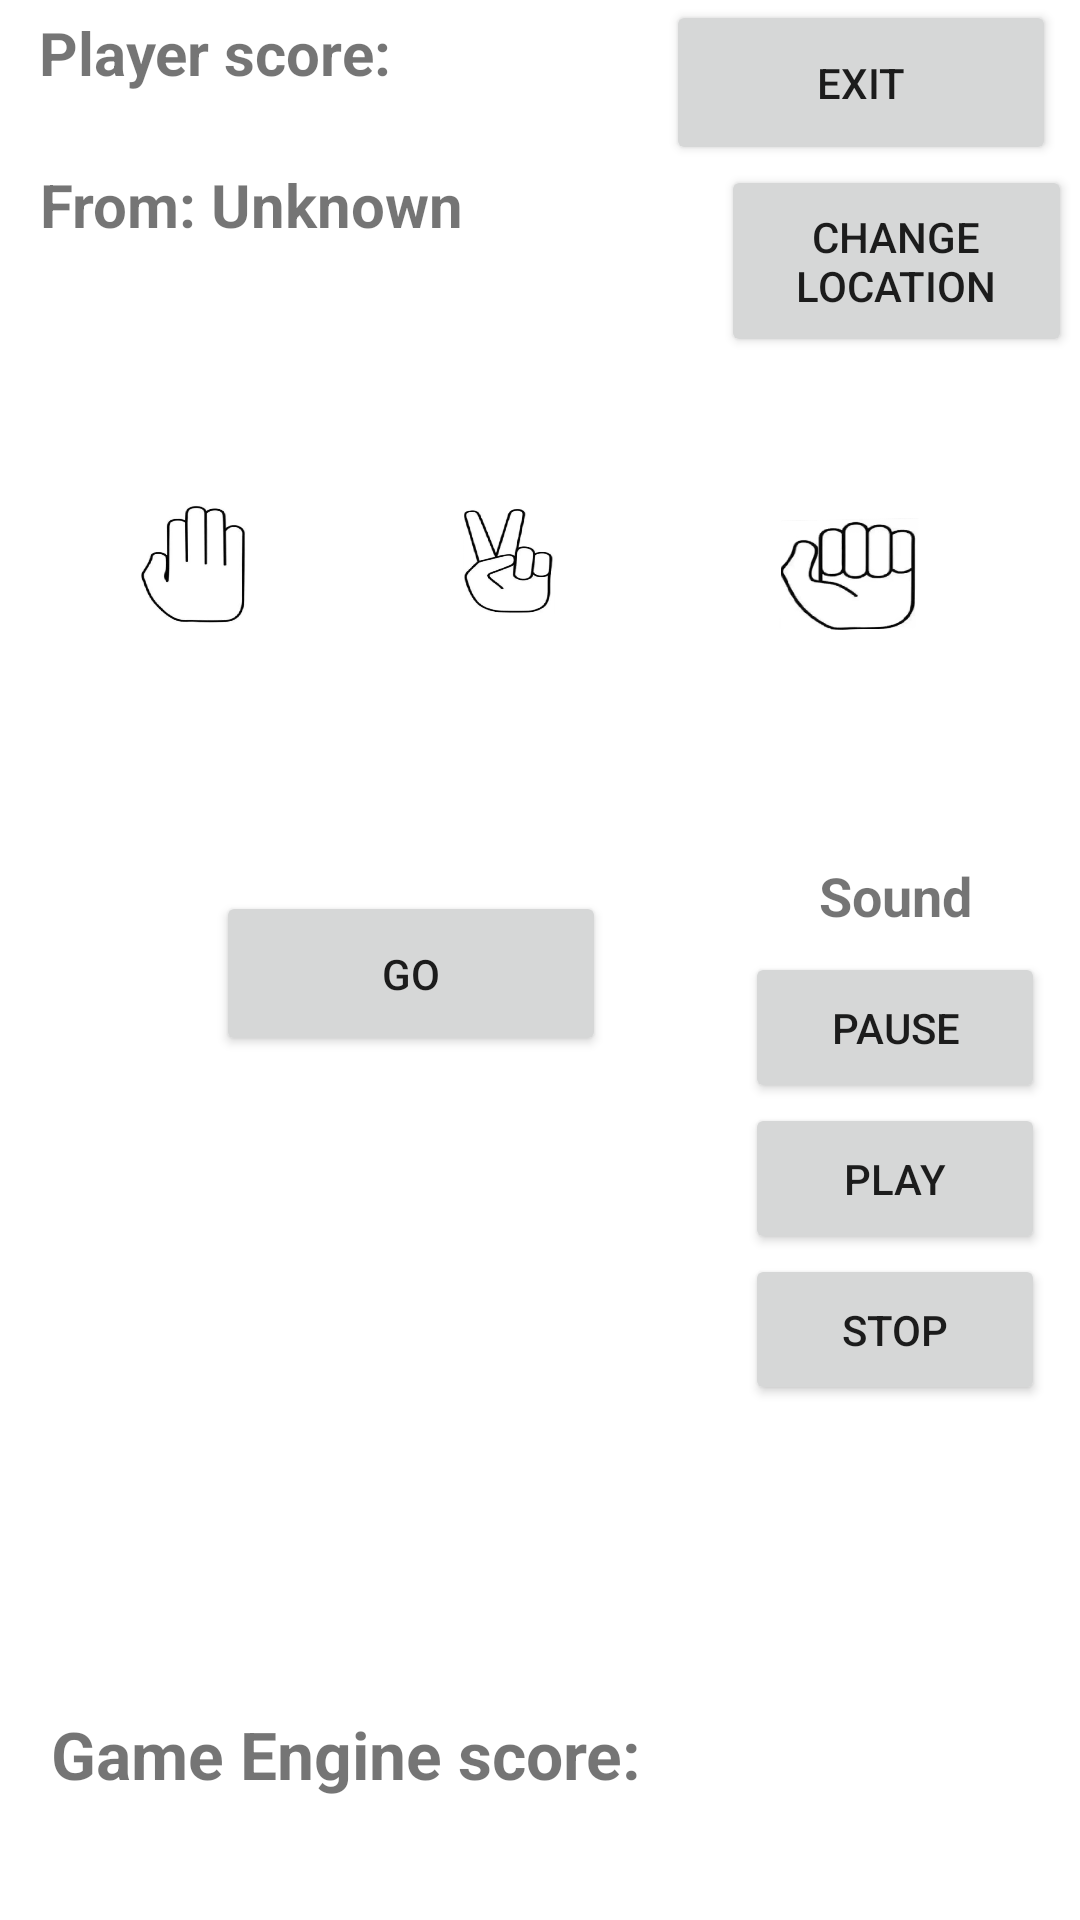

Where icons sit on this 1080*1920 app screen, as bbox=[x1, y1, x2, y2]:
paper: bbox=[141, 506, 245, 623]
rock: bbox=[781, 522, 916, 630]
scissors: bbox=[464, 509, 553, 613]
